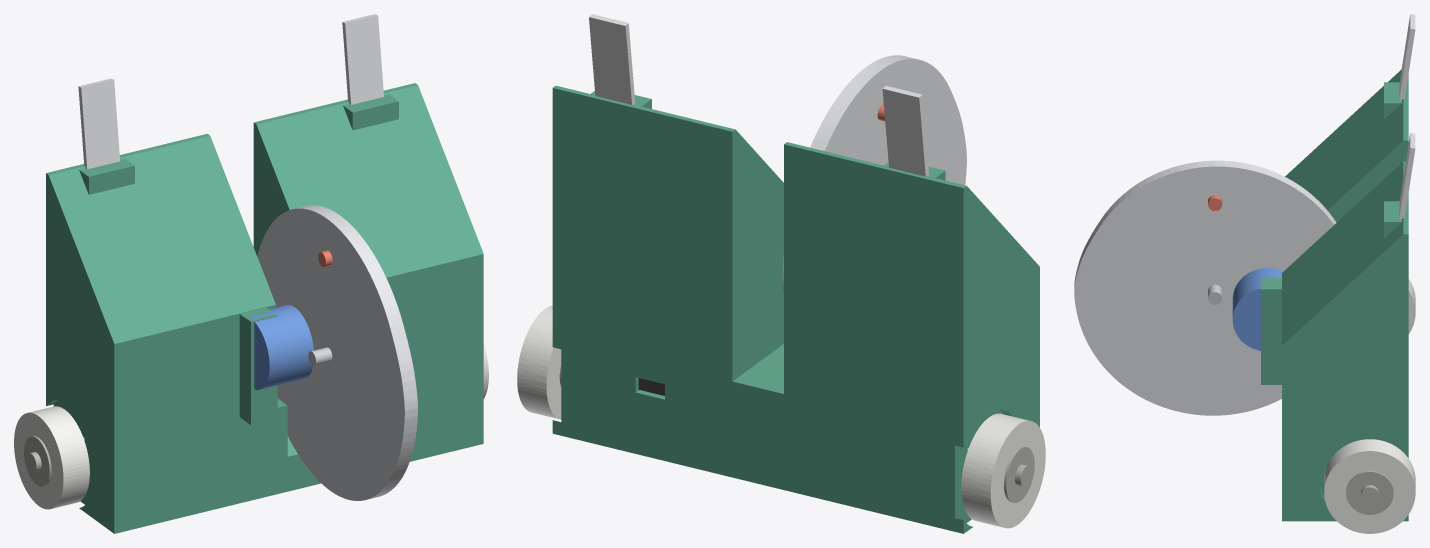
File: pyro.glb
3 views of the same model, side by side, from view 1: azimuth 30°, elevation 25°; view 2: azimuth 150°, elevation 25°; view 3: azimuth 270°, elevation 25° (orthographic). The views are drawn at different scales.
Parts seen in each view (by area): view 1: pod_r, pod_l, weapon, wheel_r0, motor, fork_1, fork_0, upright_r, bridge, dt_hub_wheel_r0; view 2: pod_r, pod_l, weapon, wheel_r0, bridge, wheel_l0, fork_1, fork_0, dt_hub_wheel_r0; view 3: weapon, pod_l, pod_r, wheel_l0, upright_l, motor, dt_hub_wheel_l0, fork_0, fork_1.
Boxes of the visible parts, x1=… form: pod_r: x1=46, y1=133, x2=275, y2=533; pod_l: x1=253, y1=83, x2=483, y2=461; weapon: x1=257, y1=205, x2=417, y2=500; wheel_r0: x1=14, y1=406, x2=89, y2=509; motor: x1=249, y1=304, x2=313, y2=389; fork_1: x1=342, y1=14, x2=383, y2=104; fork_0: x1=78, y1=78, x2=119, y2=169; upright_r: x1=239, y1=307, x2=277, y2=425; bridge: x1=275, y1=398, x2=320, y2=494; dt_hub_wheel_r0: x1=24, y1=436, x2=51, y2=486; pod_r: x1=784, y1=142, x2=1039, y2=533; pod_l: x1=552, y1=85, x2=783, y2=477; weapon: x1=782, y1=55, x2=966, y2=293; wheel_r0: x1=961, y1=413, x2=1045, y2=528; bridge: x1=732, y1=344, x2=784, y2=489; wheel_l0: x1=517, y1=305, x2=561, y2=419; fork_1: x1=589, y1=14, x2=635, y2=104; fork_0: x1=882, y1=86, x2=928, y2=176; dt_hub_wheel_r0: x1=1004, y1=446, x2=1034, y2=502; weapon: x1=1074, y1=160, x2=1336, y2=415; pod_l: x1=1282, y1=161, x2=1408, y2=521; pod_r: x1=1285, y1=69, x2=1408, y2=222; wheel_l0: x1=1324, y1=439, x2=1415, y2=533; upright_l: x1=1261, y1=277, x2=1281, y2=384; motor: x1=1232, y1=268, x2=1283, y2=350; dt_hub_wheel_l0: x1=1346, y1=471, x2=1393, y2=514; fork_0: x1=1399, y1=14, x2=1415, y2=100; fork_1: x1=1399, y1=133, x2=1415, y2=219.
Size of the model in its own units: 133 by 112 by 97.01.
